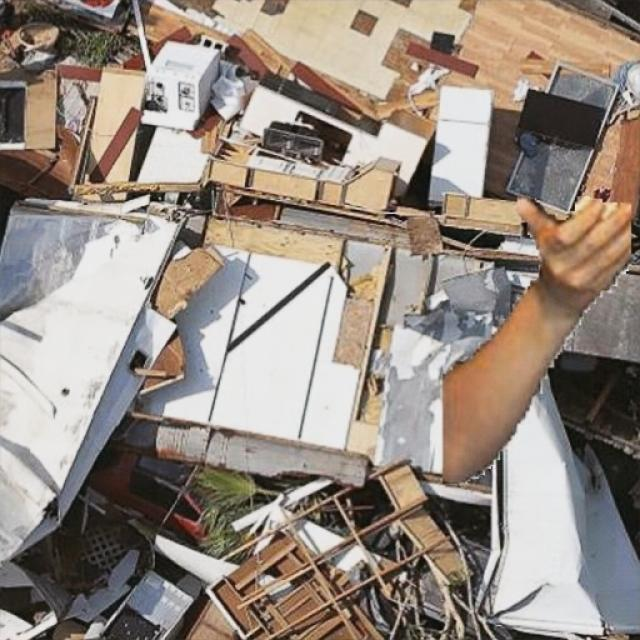Person in Rubble: (442, 196, 630, 486)
